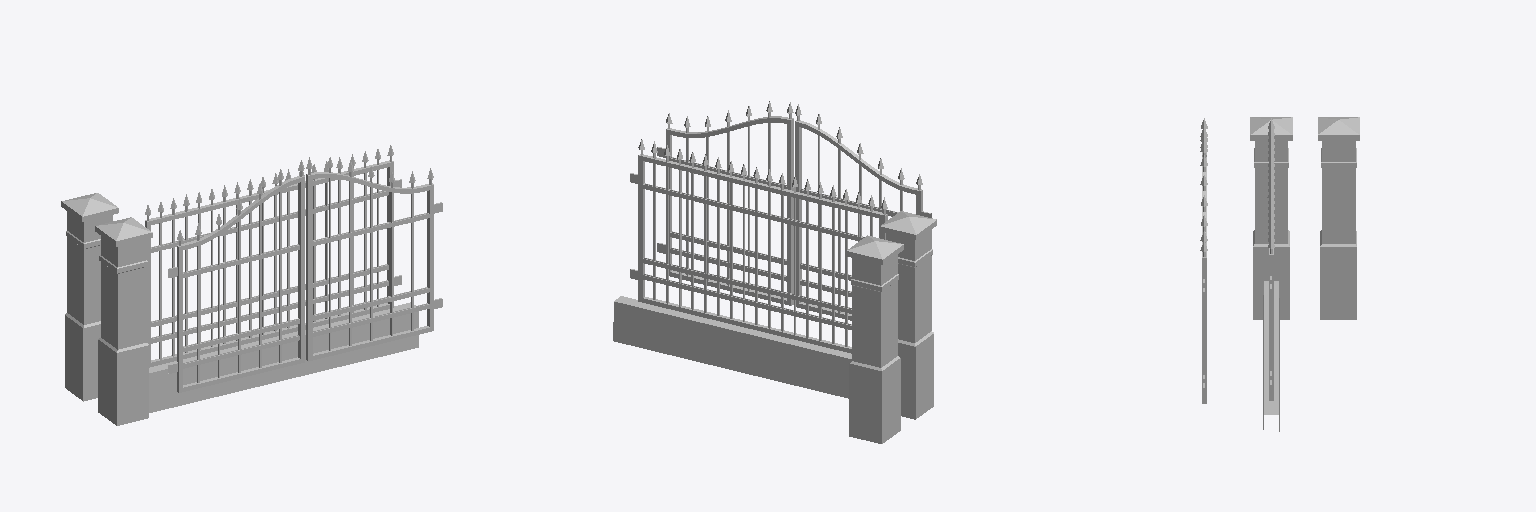
Rendered from Graveyard Fence.obj.
3 views of the same model, side by side, from view 1: azimuth 30°, elevation 25°; view 2: azimuth 150°, elevation 25°; view 3: azimuth 270°, elevation 25° (orthographic).
Parts seen in each view (by area): view 1: fence, fence_gate_0, fence_gate_1, fence_column; view 2: fence, fence_column, fence_gate_1, fence_gate_0; view 3: fence, fence_column, fence_gate_1.
Part boxes in pixels (left/top/right/bottom): fence: left=95, top=145, right=418, bottom=425; fence_gate_0: left=168, top=160, right=304, bottom=392; fence_gate_1: left=306, top=157, right=442, bottom=361; fence_column: left=61, top=193, right=118, bottom=401; fence: left=613, top=139, right=936, bottom=419; fence_column: left=846, top=235, right=903, bottom=443; fence_gate_1: left=657, top=101, right=793, bottom=305; fence_gate_0: left=795, top=104, right=931, bottom=320; fence: left=1250, top=117, right=1292, bottom=431; fence_column: left=1318, top=117, right=1359, bottom=319; fence_gate_1: left=1200, top=141, right=1207, bottom=403.
Size of the model in its own units: 5.31 by 4.03 by 2.37.